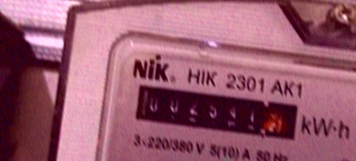0: (145, 88, 161, 111), (166, 89, 181, 112)
1: (244, 101, 258, 122)
2: (186, 93, 200, 115)
4: (225, 98, 240, 120)
5: (204, 95, 219, 118)
6: (265, 116, 278, 132)
screen: (123, 71, 310, 149)
